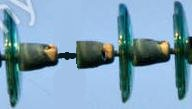gap: (2, 3, 141, 107)
